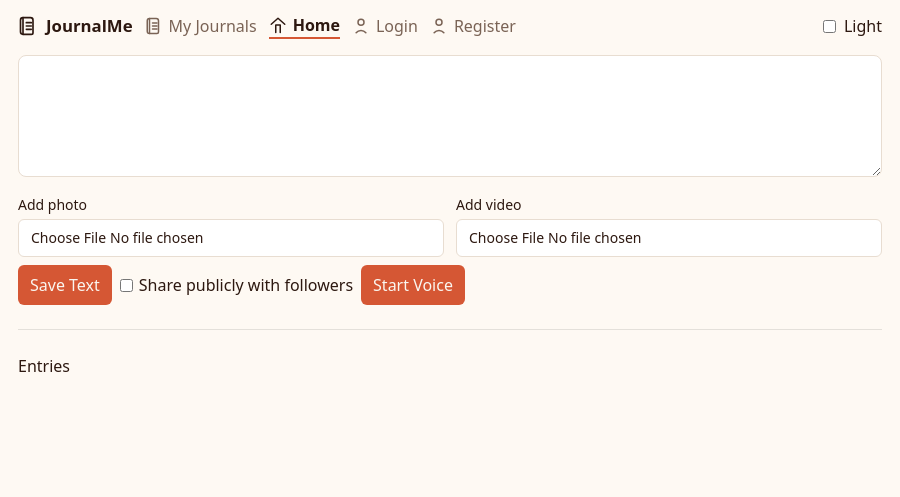
saves text entry and shows it after server response
The width and height of the screenshot is (900, 497).
Type "hello world" into the text box. click: x=450, y=116
box: [18, 55, 882, 177]
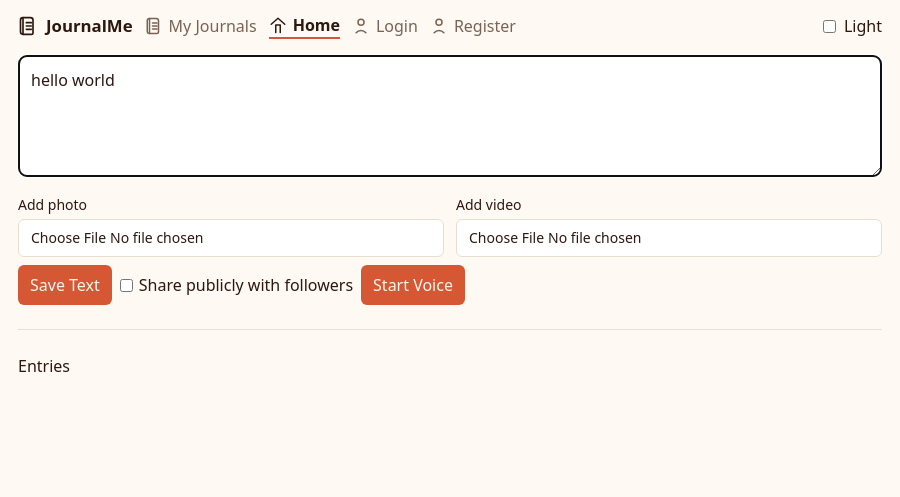
Click the button with aria-label "Save text entry". click: x=65, y=285
box: [18, 265, 112, 305]
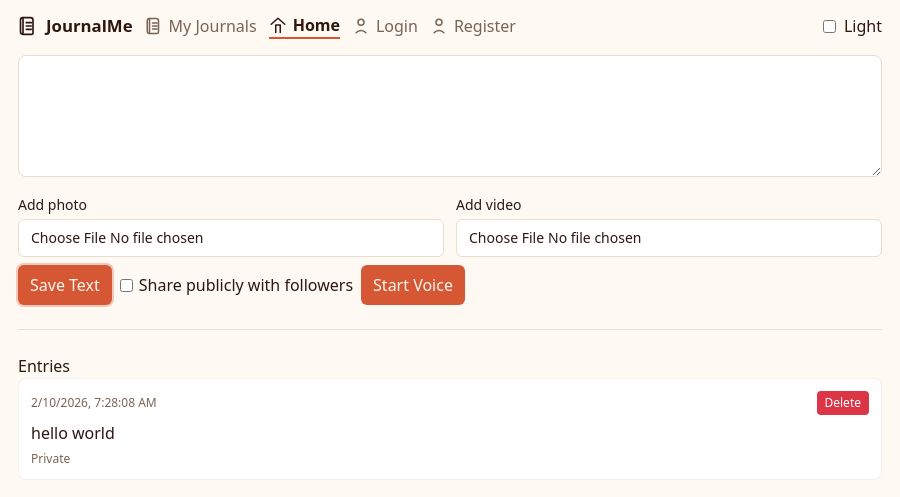
Result: the text "hello world" is shown at [31, 422, 115, 444]
